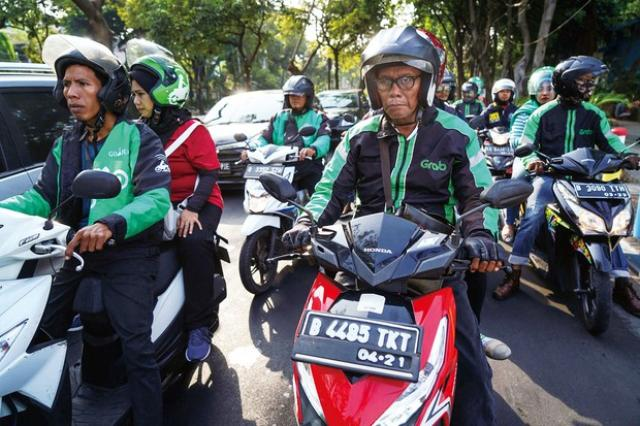helm: (43, 30, 132, 132), (361, 25, 446, 125), (124, 37, 192, 124), (554, 57, 615, 106), (285, 75, 316, 118), (529, 68, 561, 109), (494, 78, 518, 107), (461, 80, 484, 107)
motor: (260, 173, 537, 426), (2, 169, 233, 426), (518, 149, 640, 341), (233, 132, 317, 297)
